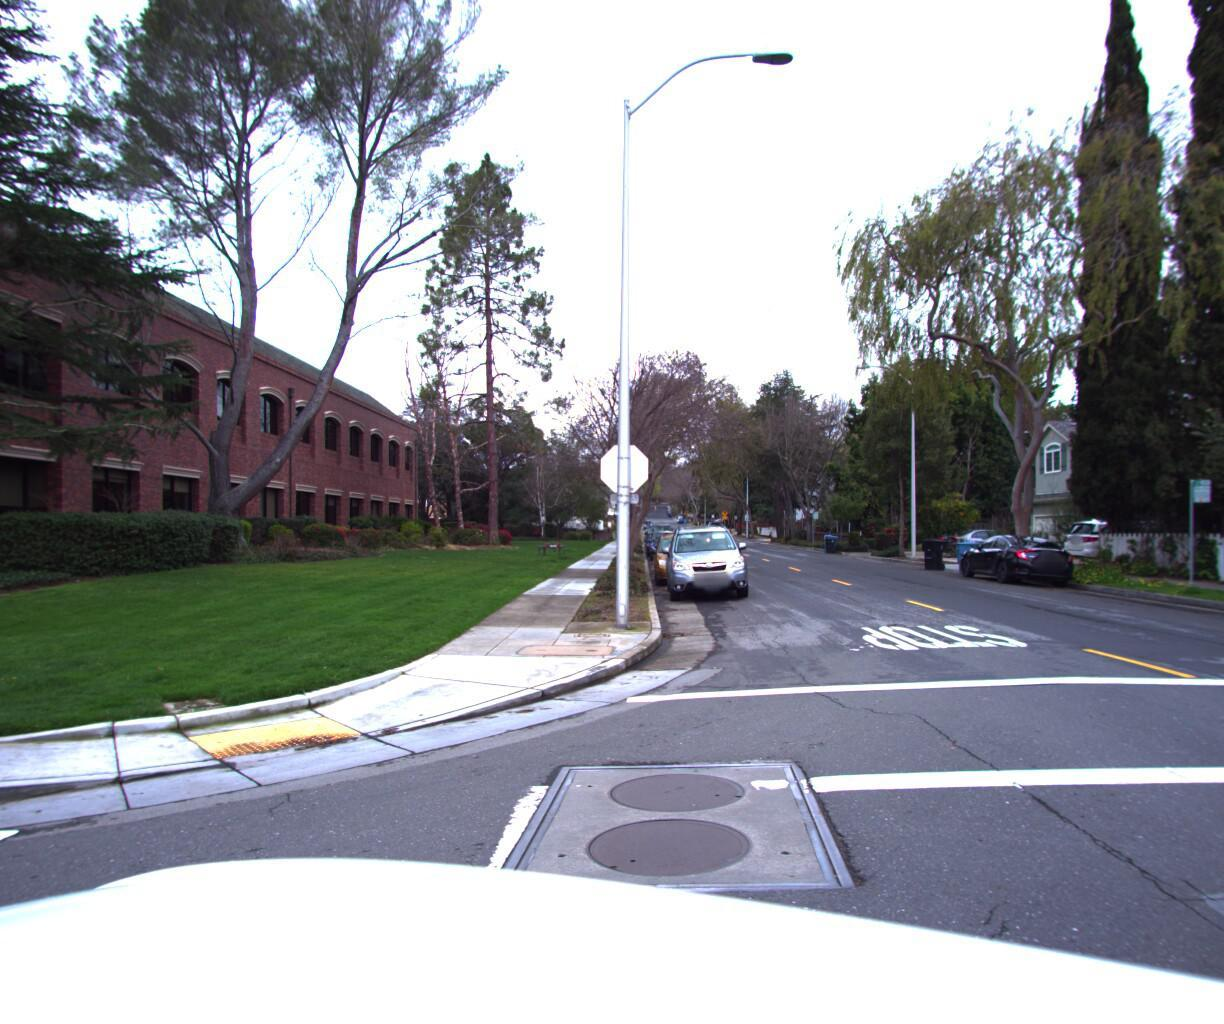car: (660, 524, 749, 611), (1051, 521, 1207, 570), (952, 535, 1078, 591), (649, 532, 710, 592), (937, 531, 1029, 560), (645, 535, 684, 565)
